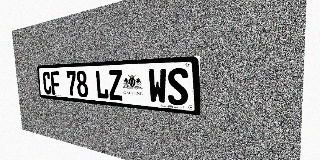7: (66, 71, 77, 97)
8: (76, 70, 88, 98)
C: (42, 71, 52, 95)
F: (50, 71, 61, 95)
L: (95, 70, 109, 99)
S: (167, 68, 189, 106)
W: (148, 68, 167, 104)
Z: (108, 70, 123, 101)
